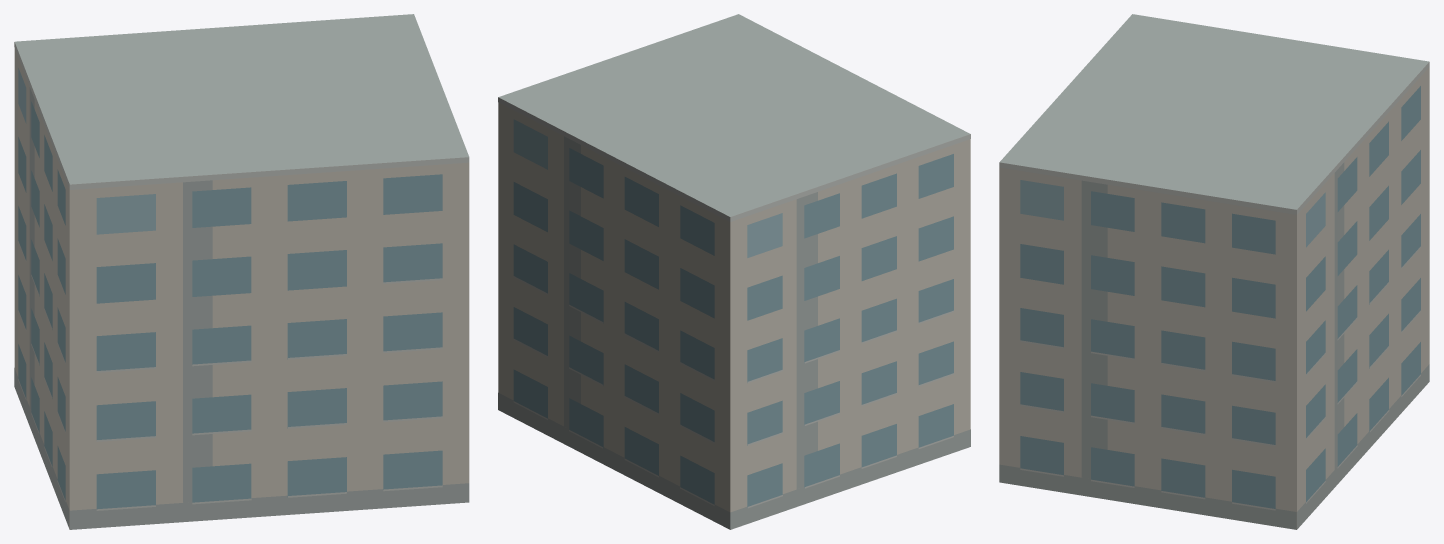
Rendered from residential-93cc138f-8855-4f7e-a6b9-93adcb3af118.glb.
3 renders of one model, left to right at view 1: azimuth 30°, elevation 25°; view 2: azimuth 150°, elevation 25°; view 3: azimuth 270°, elevation 25°, orthographic. The views are drawn at different scales.
Parts seen in each view (by area): view 1: residential-93cc138f-8855-4f7e-a6b9-93adcb3af118.tmp; view 2: residential-93cc138f-8855-4f7e-a6b9-93adcb3af118.tmp; view 3: residential-93cc138f-8855-4f7e-a6b9-93adcb3af118.tmp.
Boxes of the visible parts, x1,y1,x2,y2 form: residential-93cc138f-8855-4f7e-a6b9-93adcb3af118.tmp: [14, 14, 469, 529]; residential-93cc138f-8855-4f7e-a6b9-93adcb3af118.tmp: [498, 14, 970, 529]; residential-93cc138f-8855-4f7e-a6b9-93adcb3af118.tmp: [999, 14, 1429, 529].
Size of the model in its own units: 20.02 by 15.25 by 18.59.
